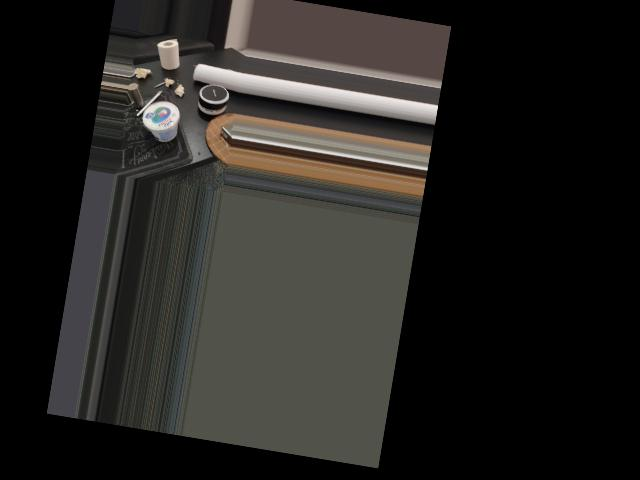cotage: (138, 100, 179, 146)
